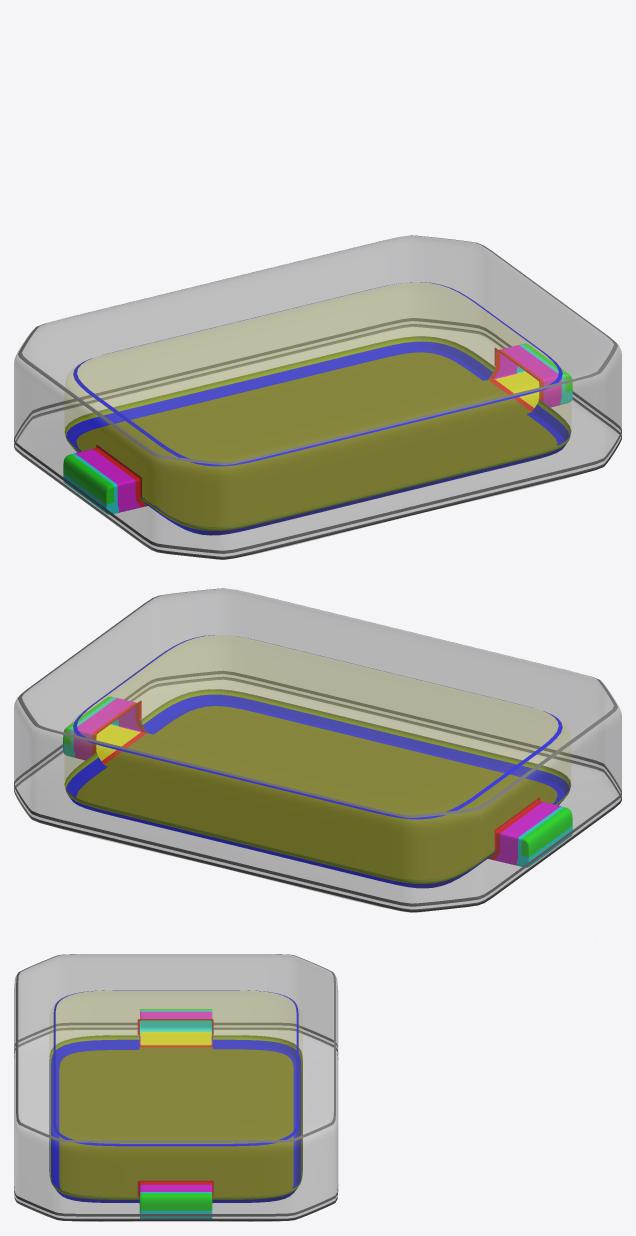
File: terrain.gltf
3 renders of one model, top to bottom at view 1: azimuth 30°, elevation 25°; view 2: azimuth 150°, elevation 25°; view 3: azimuth 270°, elevation 25°, orthographic. The views are drawn at different scales.
Visible parts, largest first — view 1: polySurface3346, polySurface3408; view 2: polySurface3346, polySurface3408; view 3: polySurface3346, polySurface3408.
Part boxes in pixels (x1,y1,x2,y2): polySurface3346: [14, 235, 621, 559]; polySurface3408: [63, 282, 572, 535]; polySurface3346: [14, 588, 621, 912]; polySurface3408: [63, 635, 572, 888]; polySurface3346: [14, 954, 338, 1221]; polySurface3408: [49, 990, 302, 1218].
Bounding box in the file's own units: 6.55 × 3.16 × 8.8.
